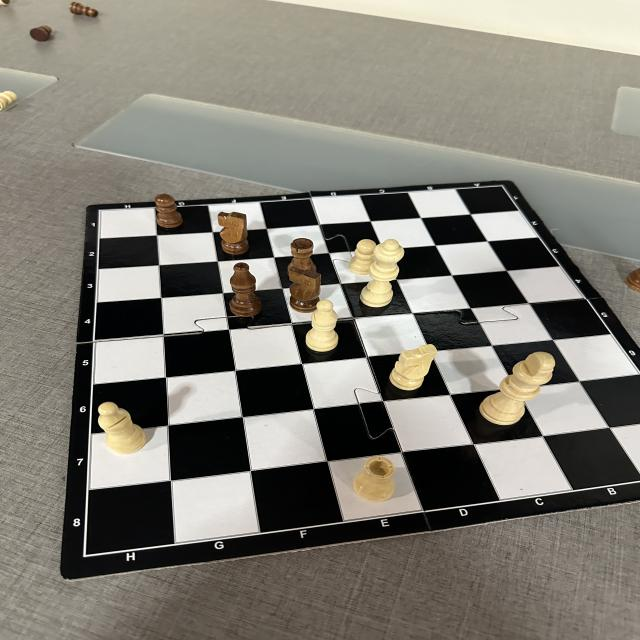Black-Bishop: (229, 262, 263, 317)
Black-Knight: (288, 266, 322, 313), (218, 211, 250, 255)
Black-Pawn: (155, 193, 184, 229), (68, 1, 98, 18), (29, 24, 52, 41)
Black-Rook: (287, 237, 313, 273)
White-Bishop: (97, 402, 147, 454), (305, 300, 338, 352)
White-King: (479, 352, 556, 426)
White-Knight: (388, 344, 437, 391)
White-Pawn: (348, 239, 377, 275), (0, 90, 19, 111)
White-Queen: (360, 238, 404, 308)
White-Rook: (353, 456, 395, 503)
